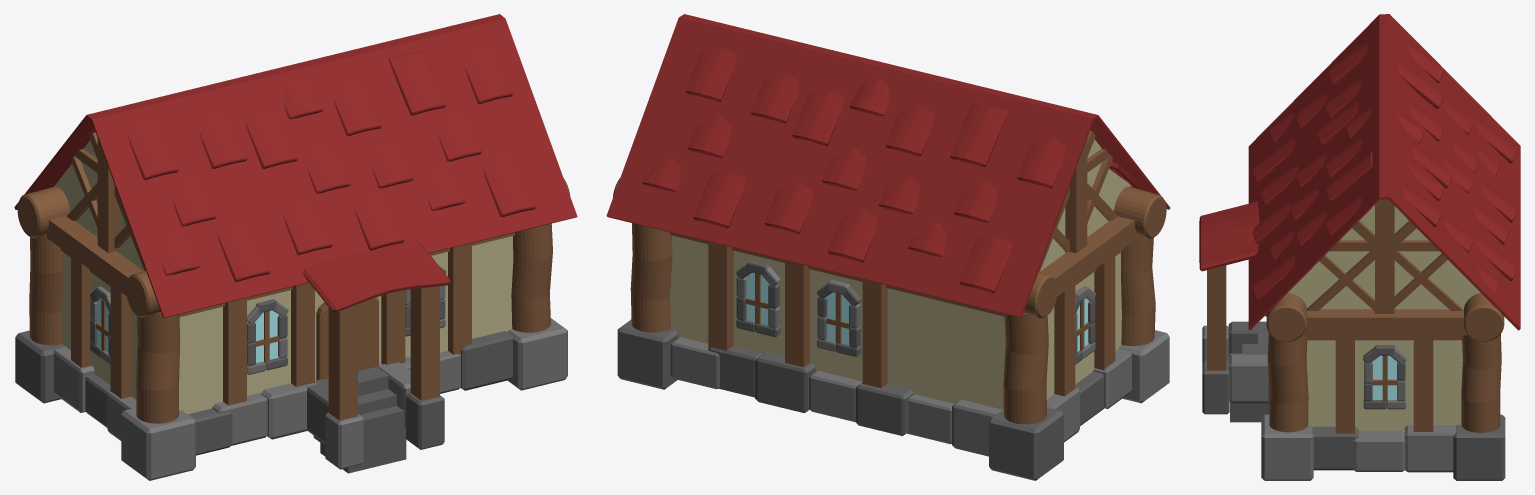
The model's file is test_house.fbx.
3 renders of one model, left to right at view 1: azimuth 30°, elevation 25°; view 2: azimuth 150°, elevation 25°; view 3: azimuth 270°, elevation 25°, orthographic. The views are drawn at different scales.
Parts seen in each view (by area): view 1: Plane.014, Cube.117, Plane.087, Cylinder.009, Cube.151, Cylinder.006, Cube.163, Cube.174, Cylinder.008, Cube.169, Cube.167, Cube.139 (+42 smaller); view 2: Plane.014, Cube.117, Cylinder.008, Cube.159, Cylinder.007, Cube.174, Cylinder.009, Cube.143, Cube.173, Cube.135, Cube.122, Cube.156 (+36 smaller); view 3: Plane.014, Cube.117, Cube.172, Cube.170, Cube.171, Cylinder.007, Cylinder.006, Plane.087, Cube.139, Cube.143, Cube.142, Cube.141 (+43 smaller).
Part boxes in pixels (box(x1,y1,x2,y2)): Plane.014: box(14, 14, 577, 318); Cube.117: box(62, 236, 513, 414); Plane.087: box(303, 240, 450, 312); Cylinder.009: box(136, 312, 180, 423); Cube.151: box(121, 408, 195, 480); Cylinder.006: box(511, 223, 552, 332); Cube.163: box(313, 367, 406, 473); Cube.174: box(66, 132, 145, 270); Cylinder.008: box(29, 234, 63, 345); Cube.169: box(410, 286, 439, 400); Cube.167: box(328, 304, 357, 420); Cube.139: box(507, 318, 567, 390); Plane.014: box(606, 14, 1170, 317); Cube.117: box(670, 235, 1121, 409); Cylinder.008: box(1003, 313, 1048, 424); Cube.159: box(989, 407, 1063, 480); Cylinder.007: box(630, 223, 672, 332); Cube.174: box(1039, 130, 1117, 271); Cylinder.009: box(1121, 234, 1155, 346); Cube.143: box(617, 319, 678, 389); Cube.173: box(1040, 216, 1137, 296); Cube.135: box(708, 242, 733, 350); Cube.122: box(862, 279, 887, 387); Cube.156: box(755, 352, 815, 412); Plane.014: box(1248, 14, 1520, 330); Cube.117: box(1306, 340, 1462, 431); Cube.172: box(1306, 199, 1462, 313); Cube.170: box(1288, 205, 1480, 309); Cube.171: box(1303, 309, 1467, 335); Cylinder.007: box(1461, 334, 1501, 432); Cylinder.006: box(1267, 332, 1308, 432); Plane.087: box(1199, 201, 1259, 271); Cube.139: box(1261, 414, 1313, 480); Cube.143: box(1453, 414, 1505, 480); Cube.142: box(1404, 425, 1456, 472); Cube.141: box(1353, 430, 1405, 471).
Size of the model in its own units: 1142 by 863 by 822.
